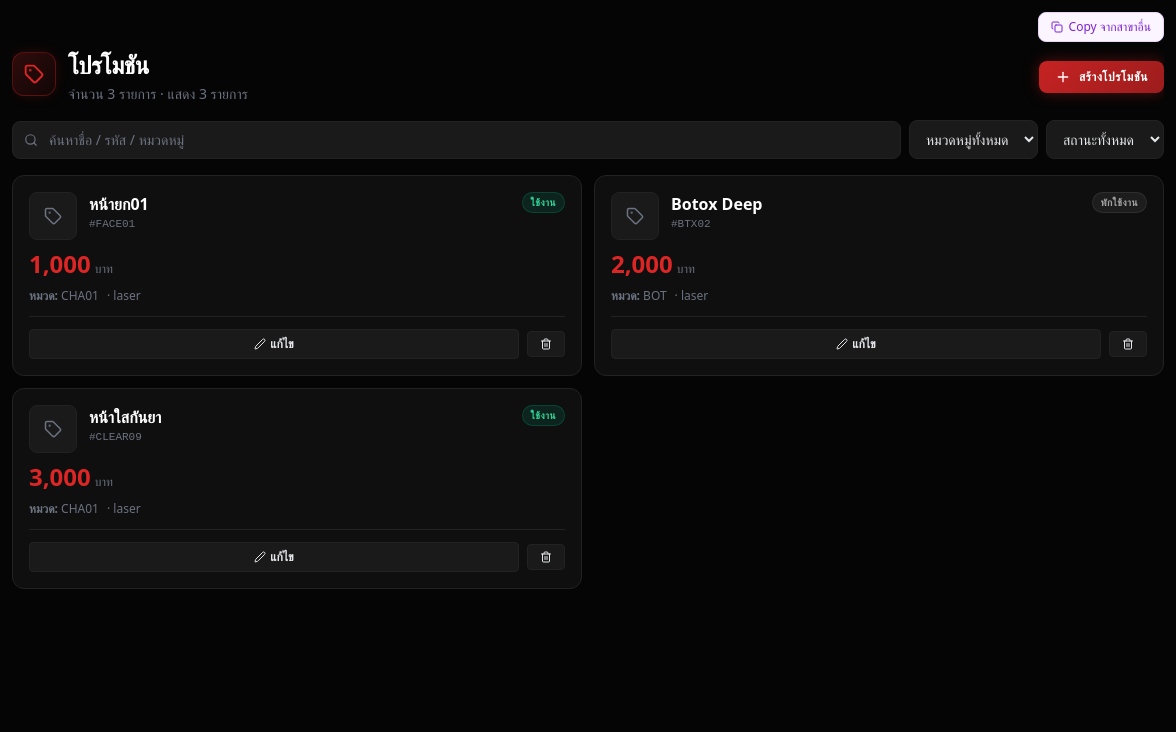
Scenario: PromotionTab — search + filter › F5 category filter applied
Select "BOT" in the 1st dropdown at (974, 140), box x1=909 y1=120 x2=1038 y2=159
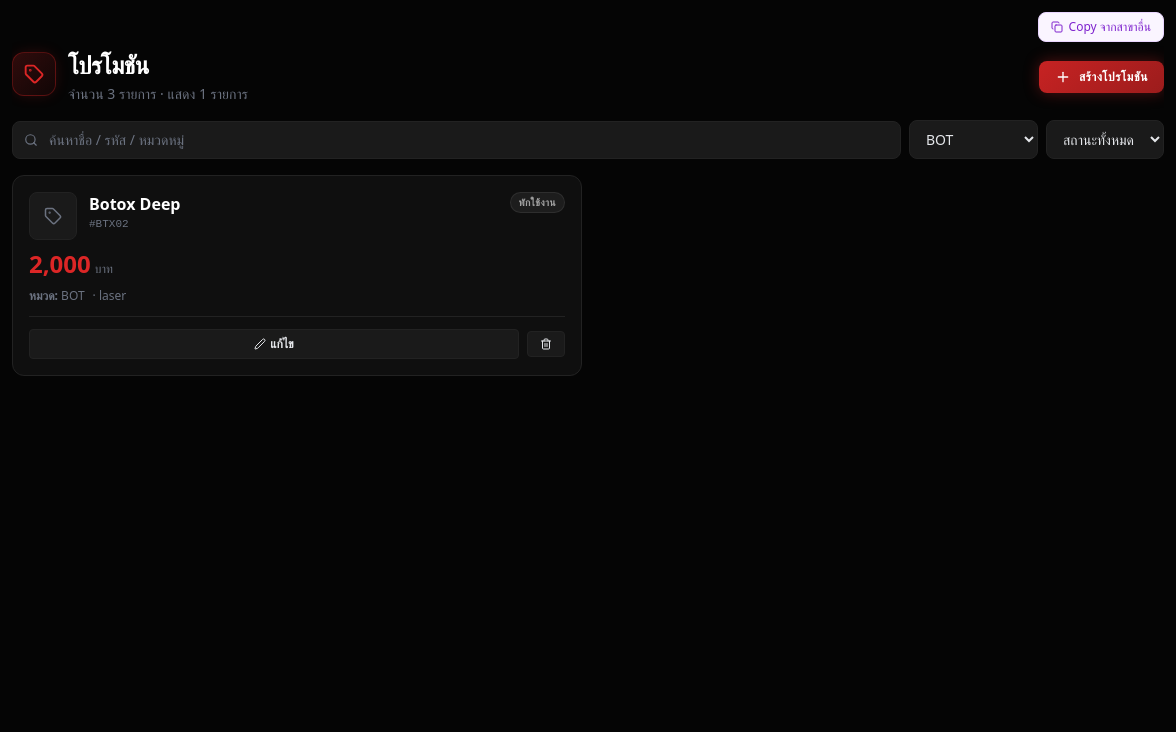
Check: the heading "Botox Deep" is shown, box x1=89 y1=193 x2=180 y2=215
Check: the heading "หน้ายก01" is gone
